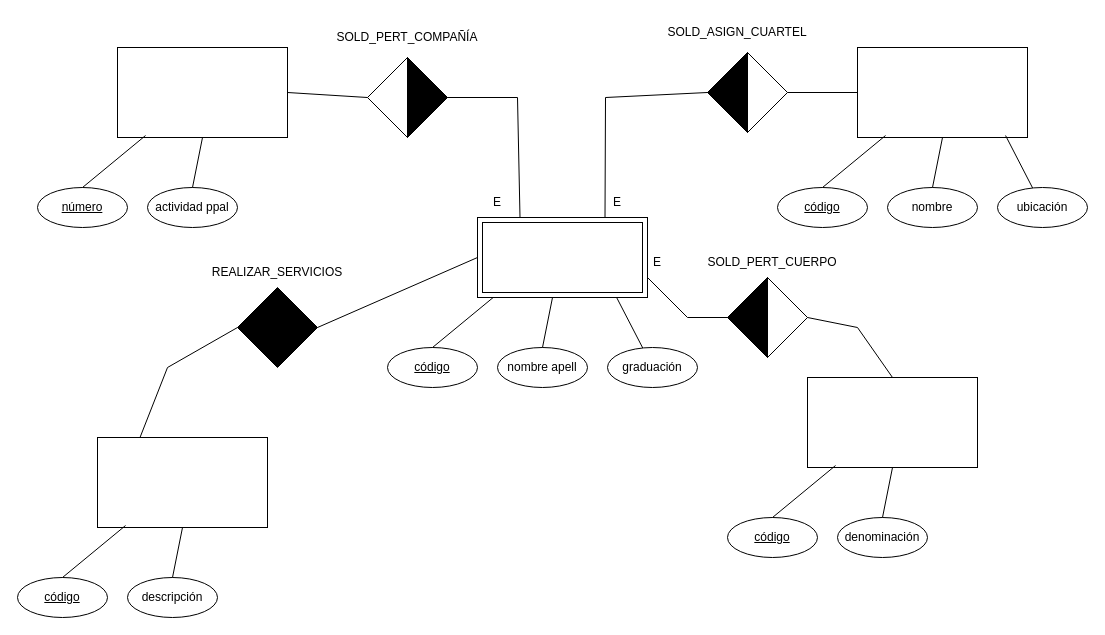
This 1105x635 diagram has some shape labels left out. The shapes that lost their labels are listed below. From the top down, each one's centre as x and y in pixels, then its label:
[202,92]: COMPAÑÍA
[942,92]: CUARTEL
[562,257]: SOLDADO
[892,422]: CUERPO
[182,482]: SERVICIO
